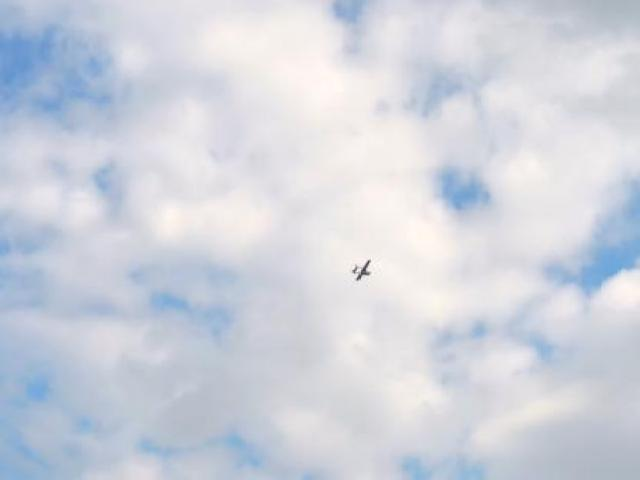uav: (347, 257, 375, 284)
